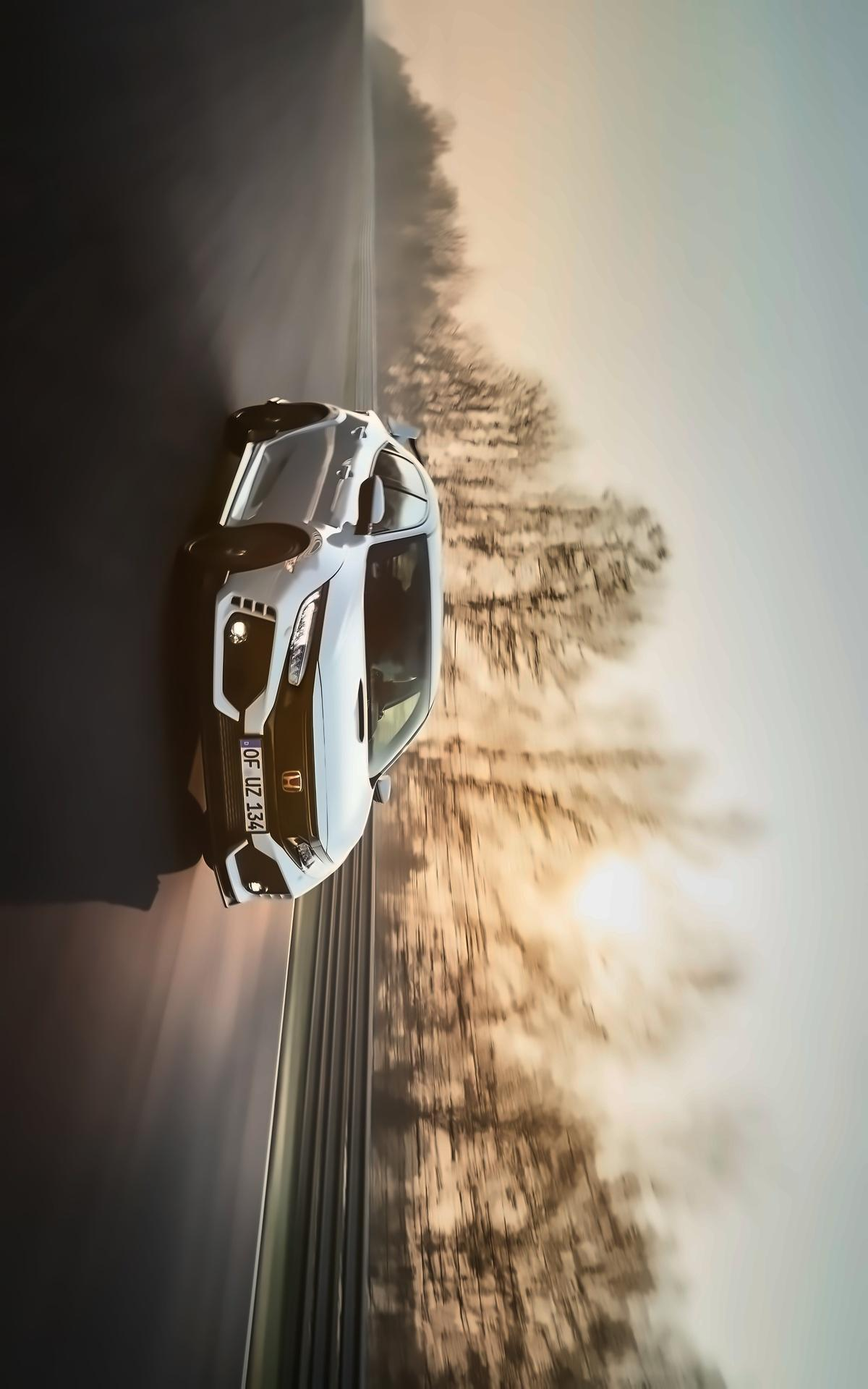Car hood: (310, 537, 370, 869)
Driver-s door - -F-R-: (232, 463, 435, 536)
Fender - -F-R-: (211, 514, 374, 591)
Front bumper: (193, 557, 296, 912)
Headlight - -L-: (283, 574, 337, 694)
Headlight - -R-: (279, 826, 338, 891)
Passenger-s door - -R-R-: (252, 421, 427, 477)
Side bumper - -R-: (219, 436, 262, 533)
Side mirror - -L-: (365, 767, 396, 810)
Side mirror - -R-: (351, 470, 386, 539)
